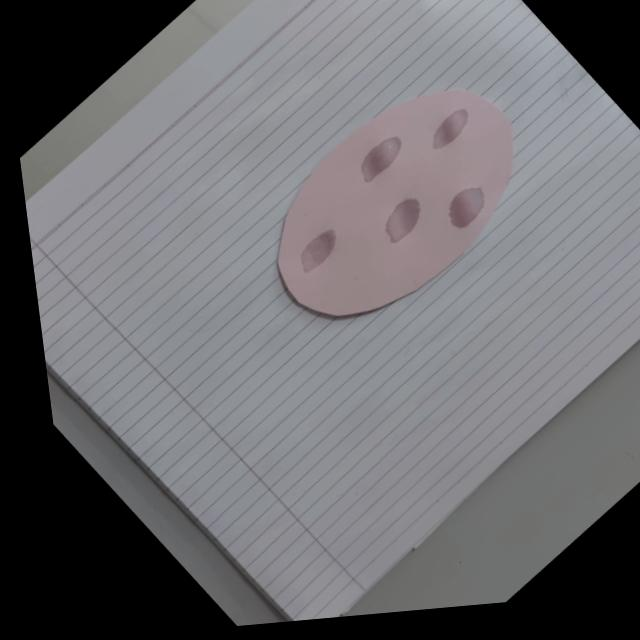BlueColor: (361, 136, 400, 181), (386, 199, 420, 243), (301, 229, 335, 272), (432, 108, 468, 148), (449, 187, 484, 228)
